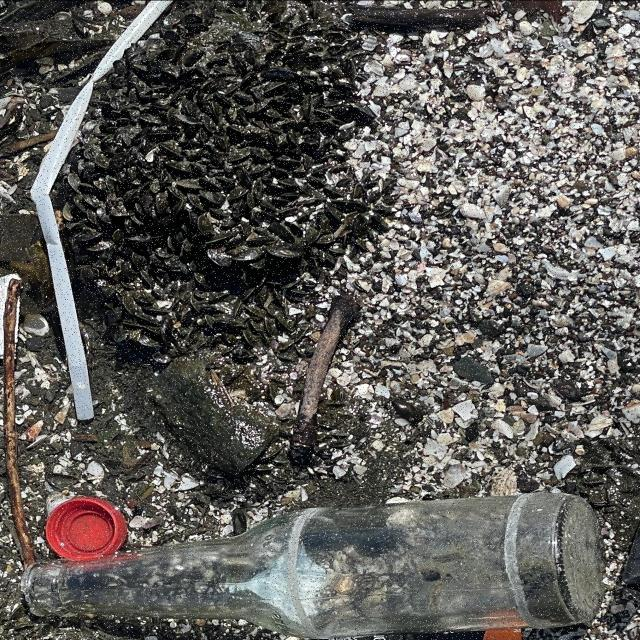glass_waste: (21, 494, 601, 640)
plastic_waste: (31, 1, 177, 422), (44, 496, 129, 562)
